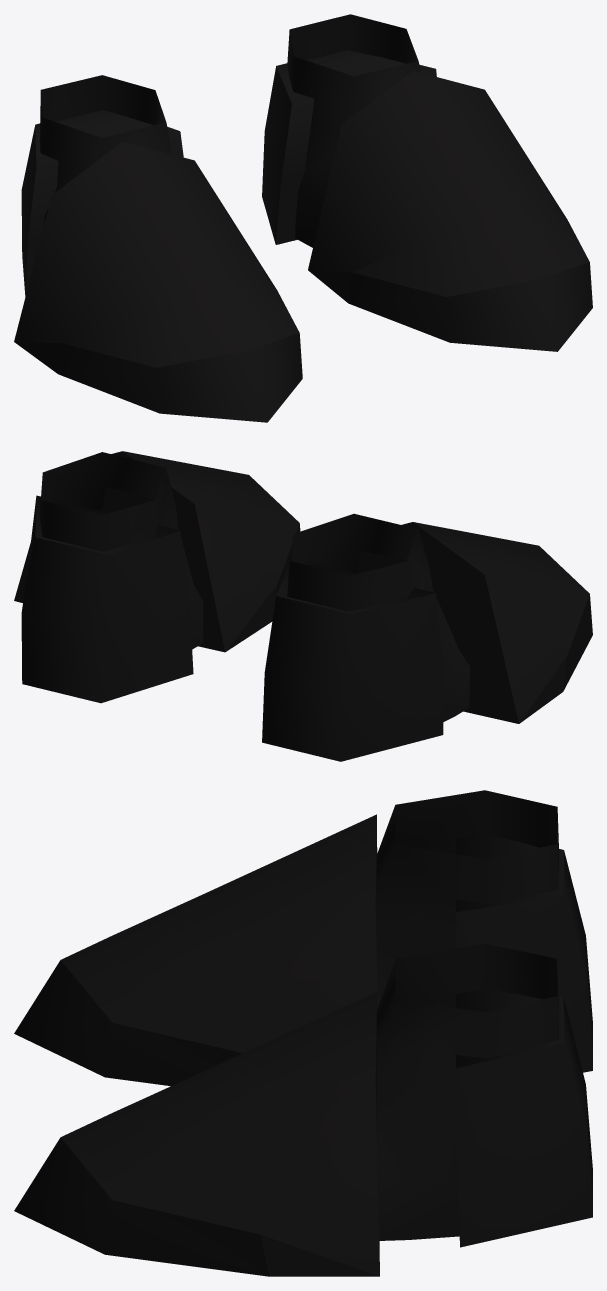
Rendered from hum_heavy_f_688401a2.glb.
3 views of the same model, one above another, from view 1: azimuth 30°, elevation 25°; view 2: azimuth 150°, elevation 25°; view 3: azimuth 270°, elevation 25° (orthographic). The views are drawn at different scales.
Size of the model in its own units: 0.715 by 0.2412 by 0.5655.
Materials: 1 (1 with a texture image).
